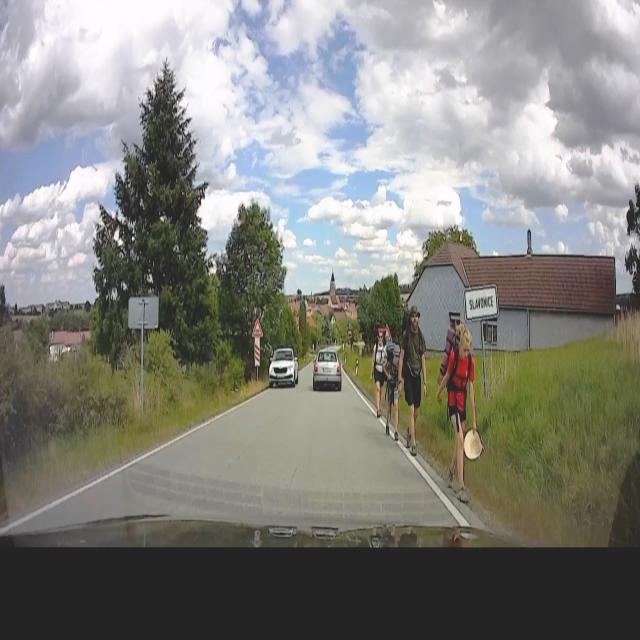Priority road: (462, 280, 500, 322)
